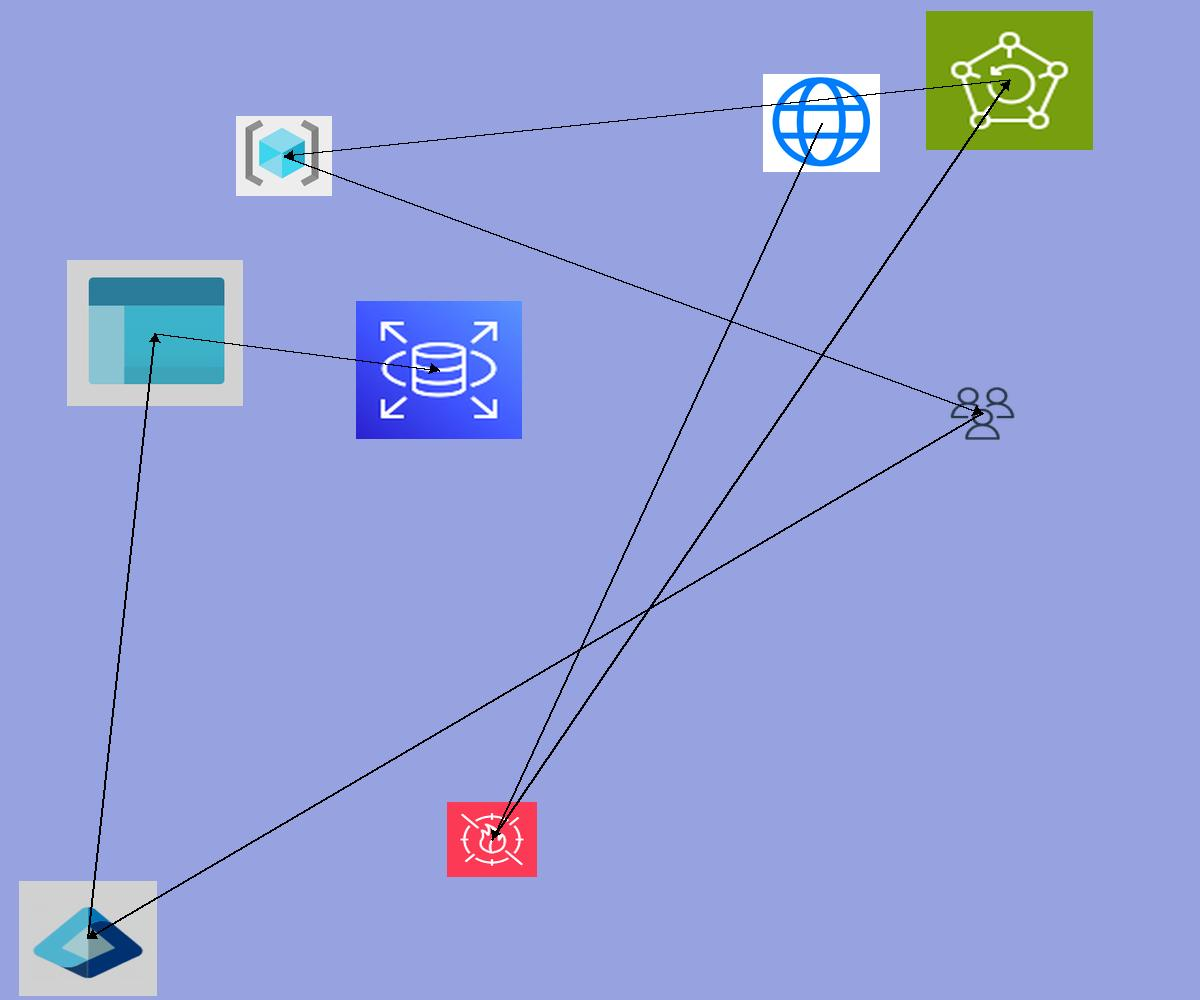AWS-Backup: (926, 11, 1093, 150)
AWS-RDS: (356, 301, 522, 439)
AWS-Res_Users: (948, 385, 1017, 442)
AWS-WAF: (447, 802, 537, 877)
Azure_http: (763, 74, 880, 172)
Azure_management-portal: (67, 260, 243, 406)
Azure_microsoft_entra: (19, 881, 157, 996)
Azure_resource_group: (236, 116, 332, 196)
